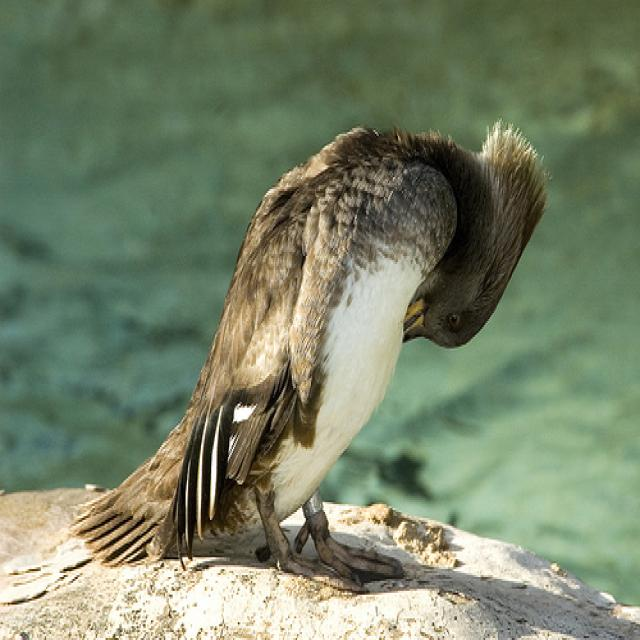bird: (74, 123, 550, 592)
